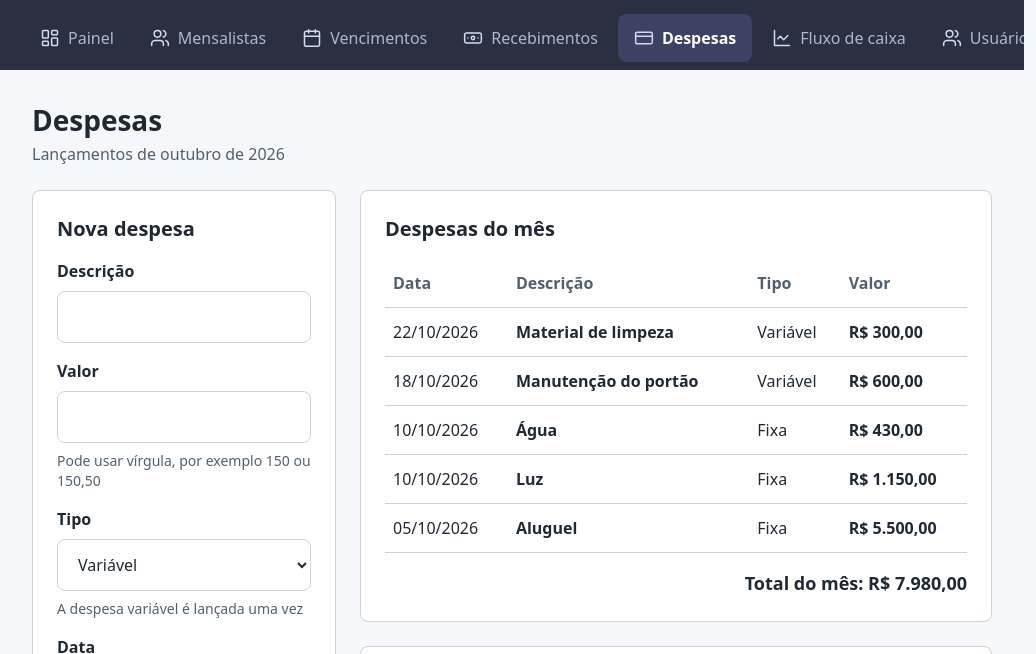
Test case: aba Despesas › lançar uma despesa fixa também cria a despesa fixa recorrente
Select "Fixa" in the dropdown labelled "Tipo": (184, 565) left=57, top=539, right=311, bottom=591
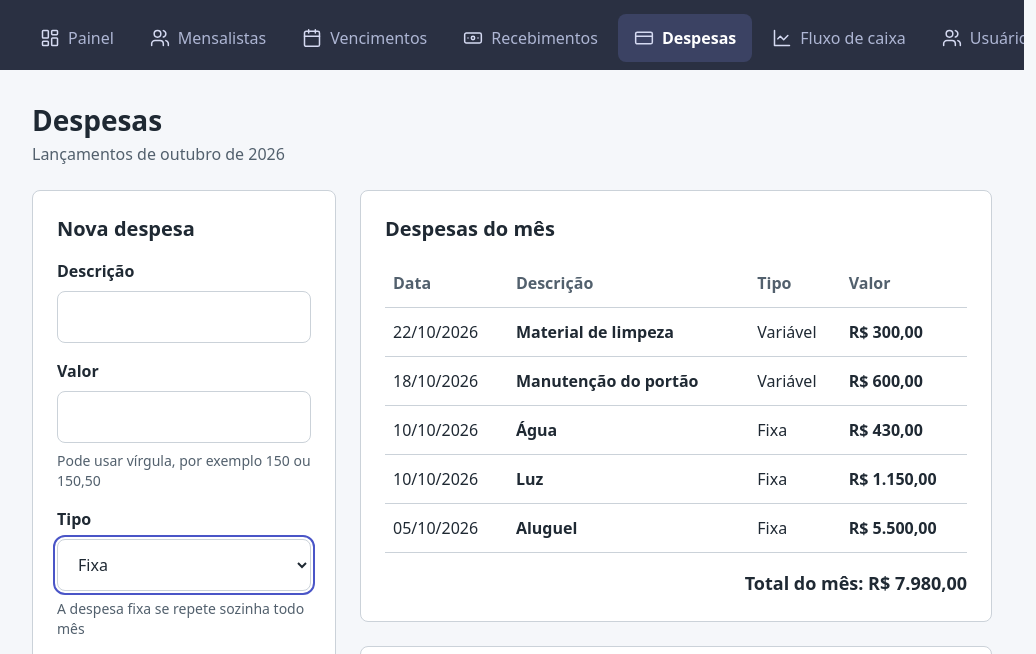
In the field labelled "Descrição": (184, 317) left=57, top=291, right=311, bottom=343, type "Internet"
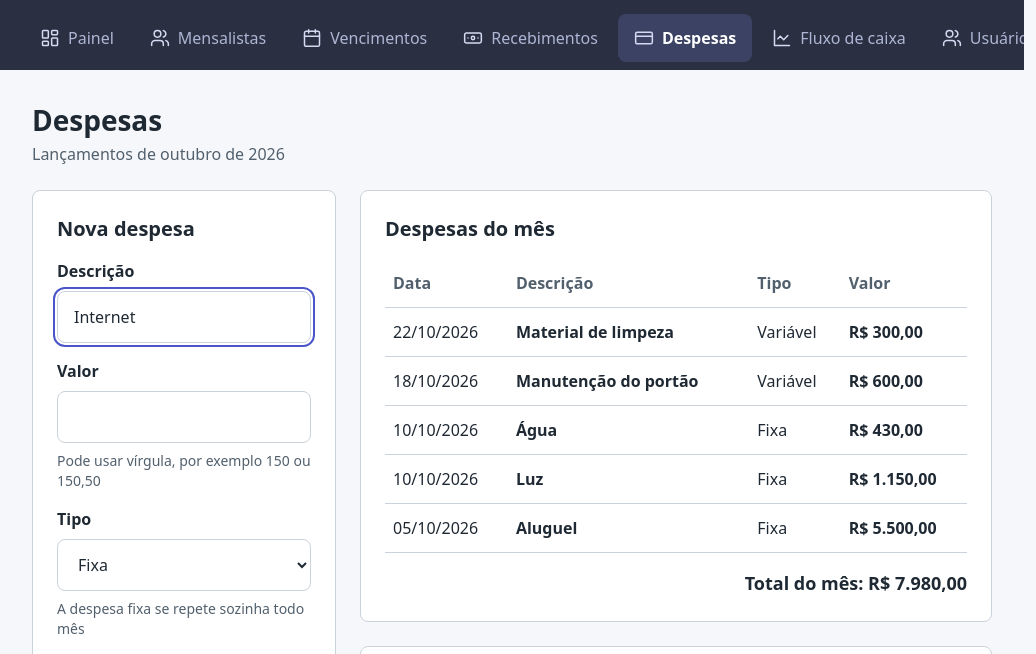
In the field labelled "Valor": (184, 417) left=57, top=391, right=311, bottom=443, type "180.00"
(page scrolled)
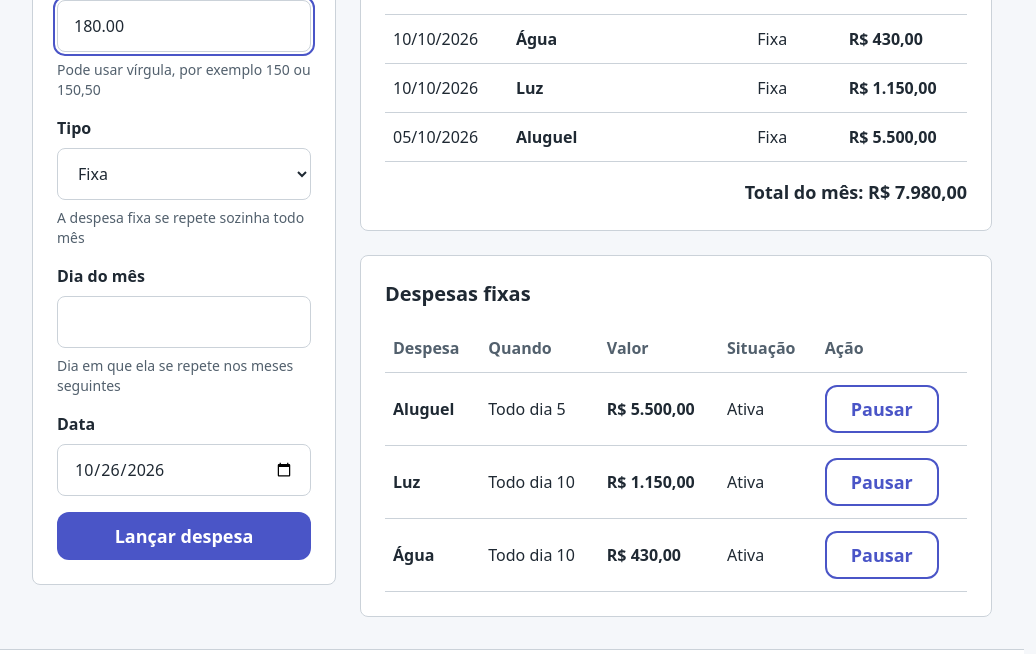
In the number field labelled "Dia do mês": (184, 322) left=57, top=296, right=311, bottom=348, type "15"
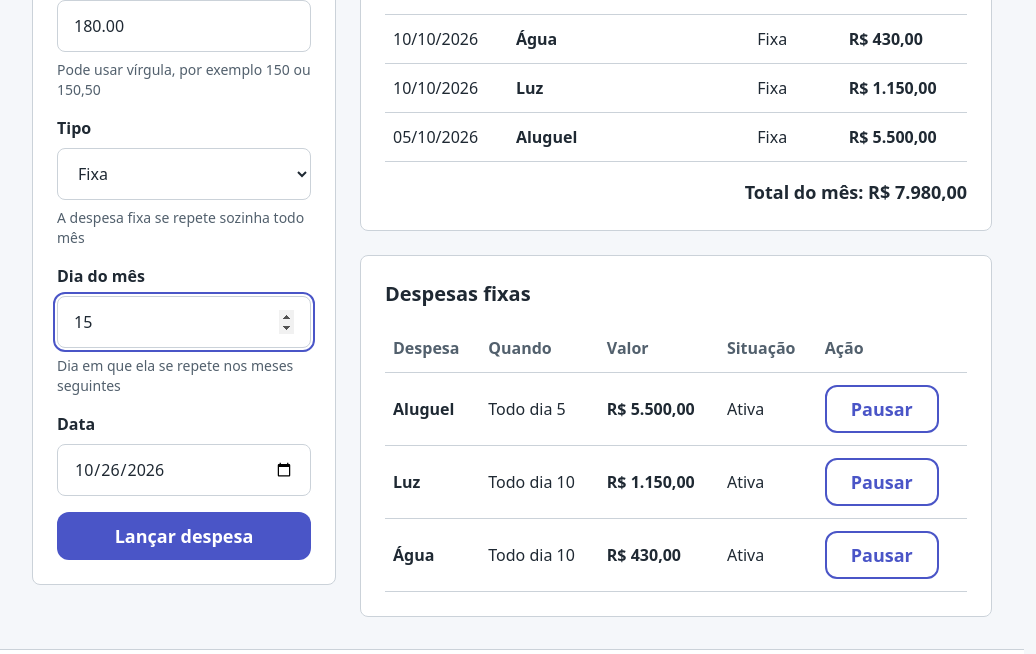
Click the button "Lançar despesa": (184, 536) left=57, top=512, right=311, bottom=560
(page scrolled)
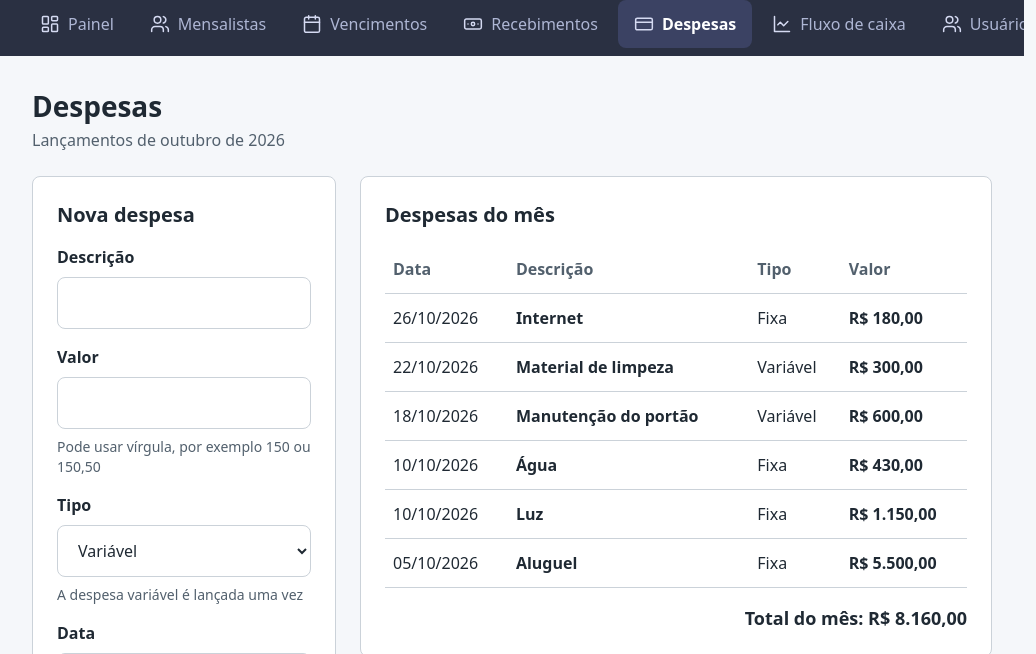
Expected: the text "Internet" is shown, left=508, top=294, right=749, bottom=342
